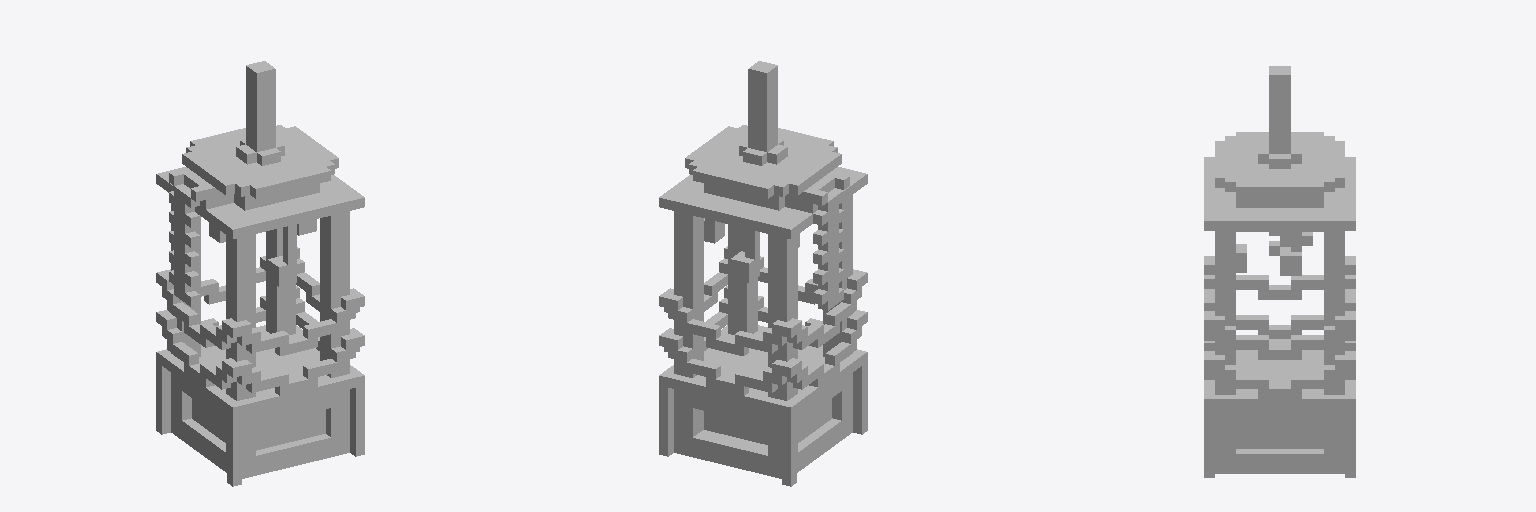
The model's file is tower_base.obj.
3 views of the same model, side by side, from view 1: azimuth 30°, elevation 25°; view 2: azimuth 150°, elevation 25°; view 3: azimuth 270°, elevation 25° (orthographic).
Parts seen in each view (by area): view 1: object 1; view 2: object 1; view 3: object 1.
Part boxes in pixels (left/top/right/bottom): object 1: left=156, top=61, right=364, bottom=486; object 1: left=659, top=61, right=867, bottom=486; object 1: left=1204, top=66, right=1355, bottom=477.
Size of the model in its own units: 1.5 by 3.8 by 1.4.